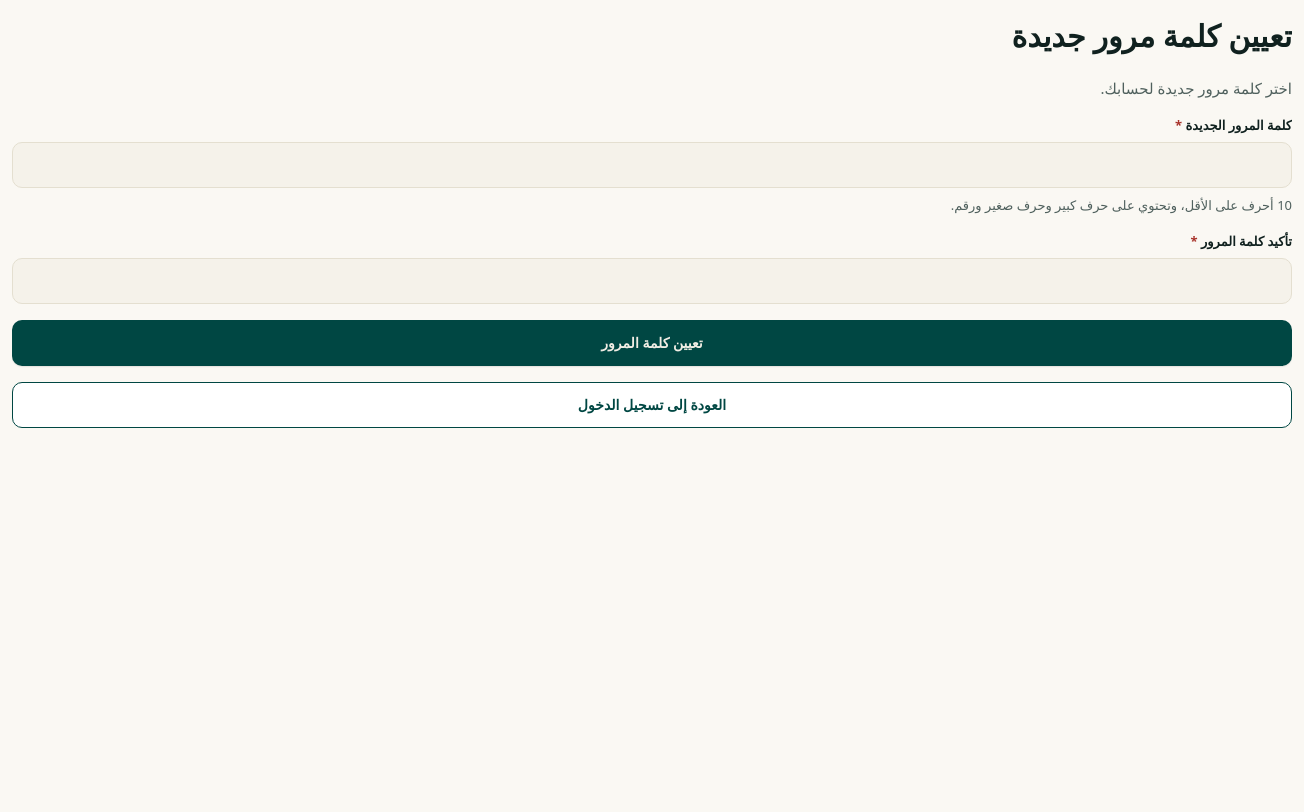
ResetPasswordForm › shows a field error under the new password
The width and height of the screenshot is (1304, 812).
Expected: the heading "تعيين كلمة مرور جديدة" is shown, x1=1012 y1=15 x2=1292 y2=56
Type "Abcdefgh1x" into the password field labelled "كلمة المرور الجديدة *" at (652, 165), box x1=12 y1=142 x2=1292 y2=188
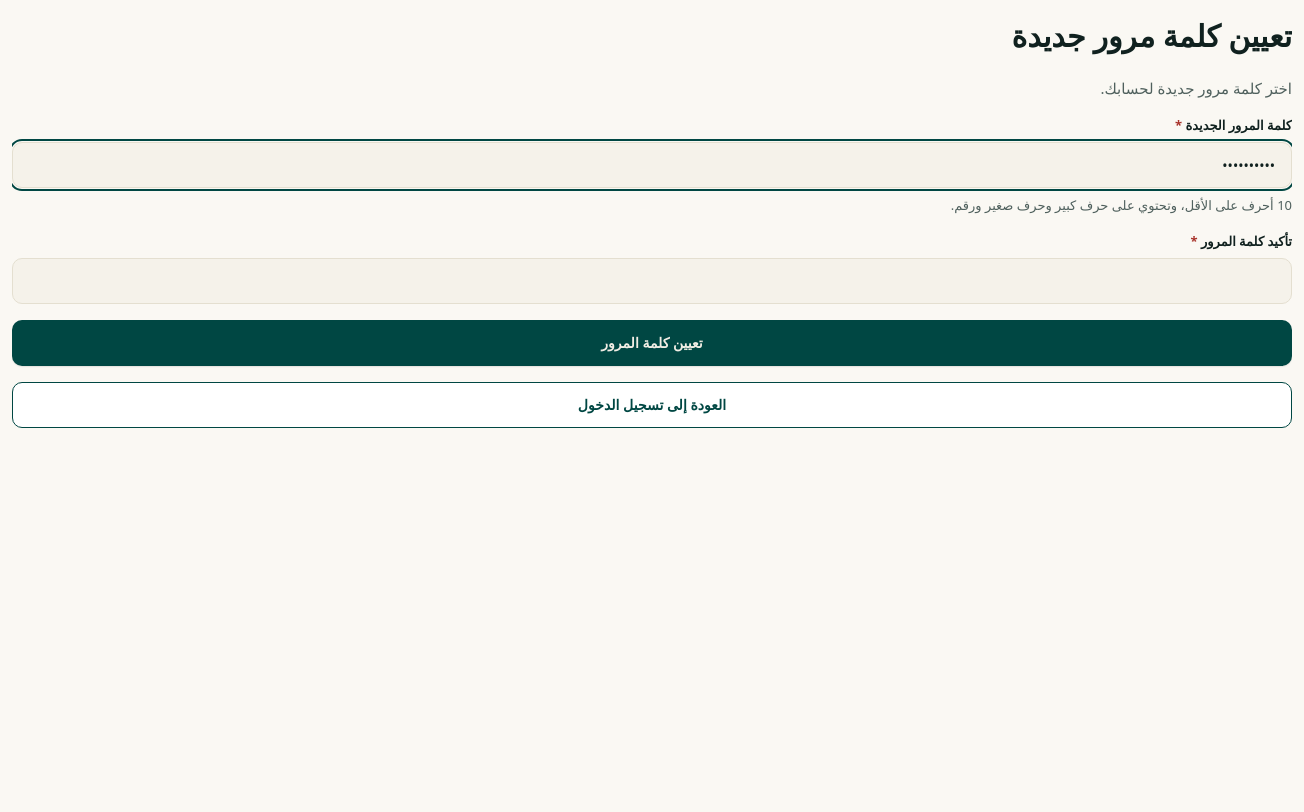
Type "Abcdefgh1x" into the password field labelled "تأكيد كلمة المرور *" at (652, 281), box x1=12 y1=258 x2=1292 y2=304
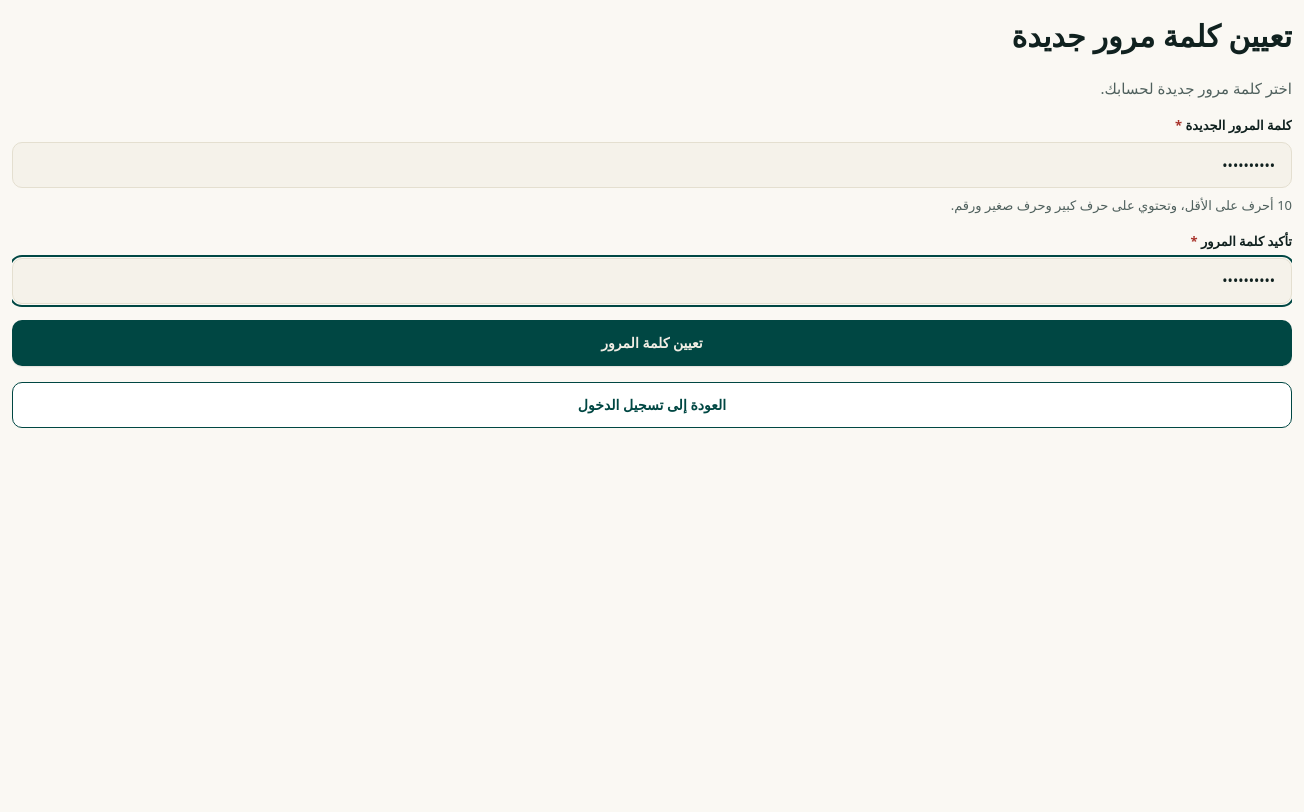
Click the button "تعيين كلمة المرور" at (652, 343), box x1=12 y1=320 x2=1292 y2=366
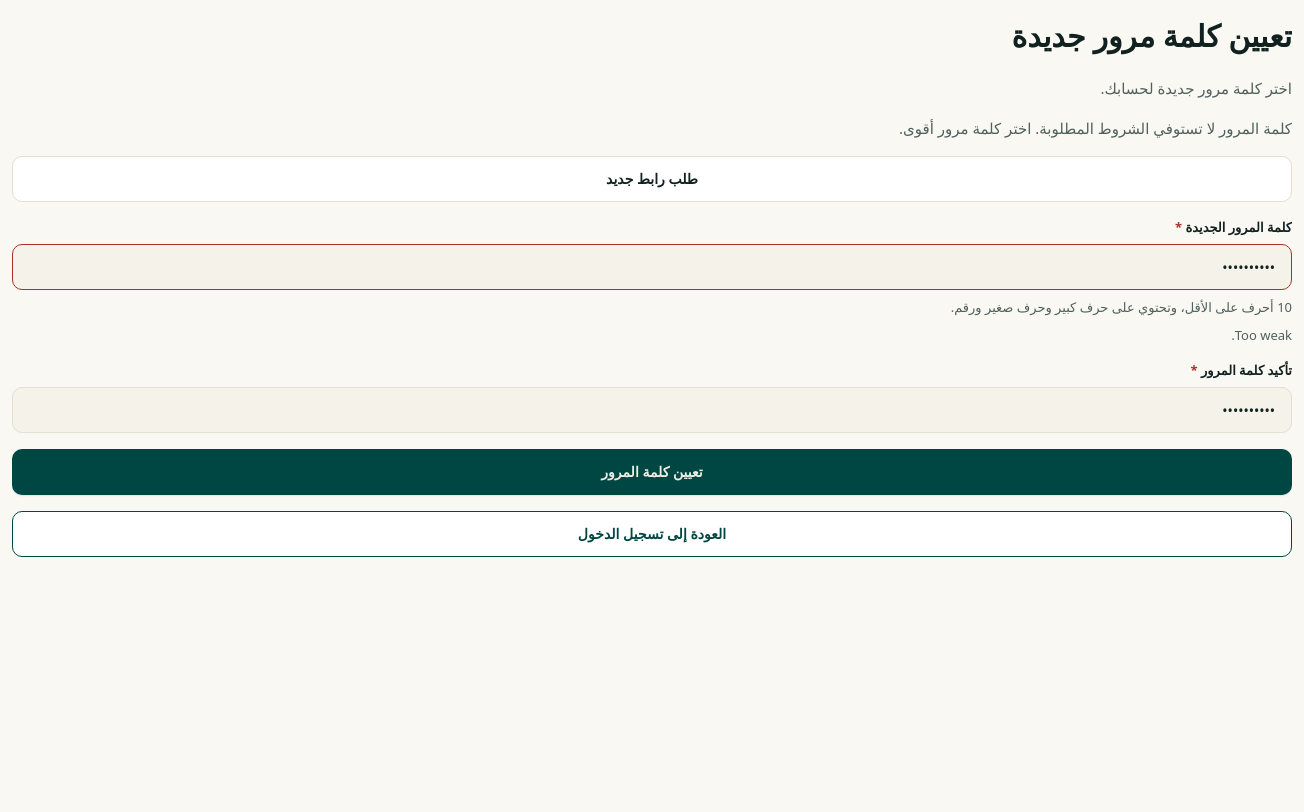
Expected: the text "Too weak." is shown, x1=1231 y1=326 x2=1292 y2=344
